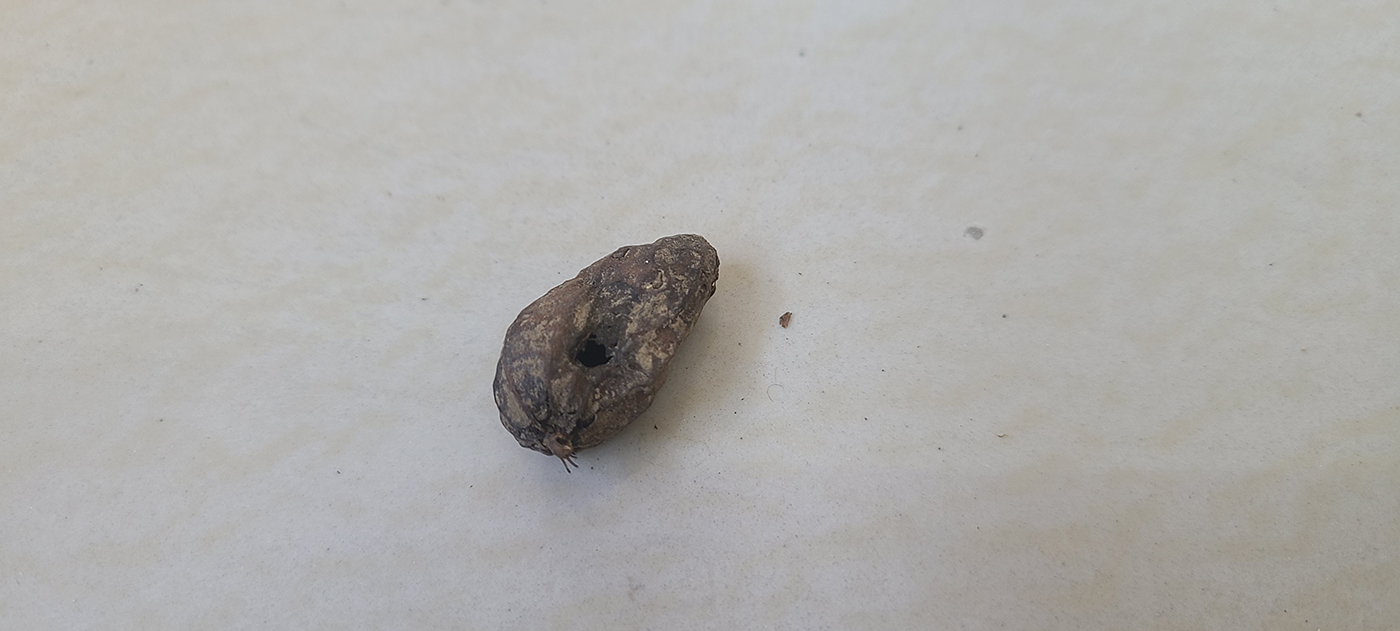l: (493, 234, 722, 455)
